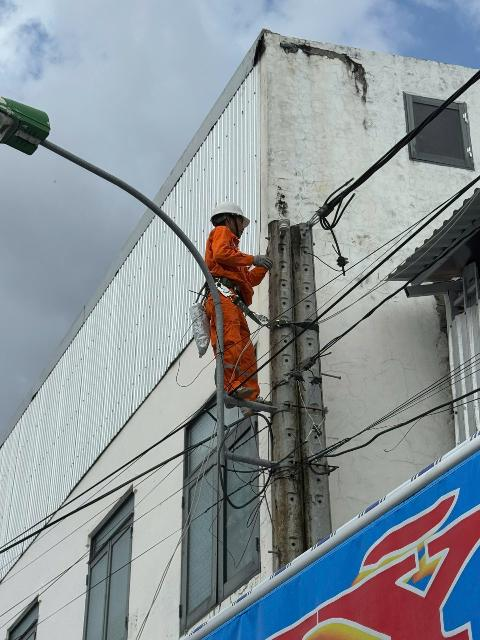gloves: (249, 251, 274, 270)
harness: (199, 272, 262, 317)
helmet: (203, 199, 253, 228)
shoes: (216, 383, 250, 410), (239, 393, 273, 419)
